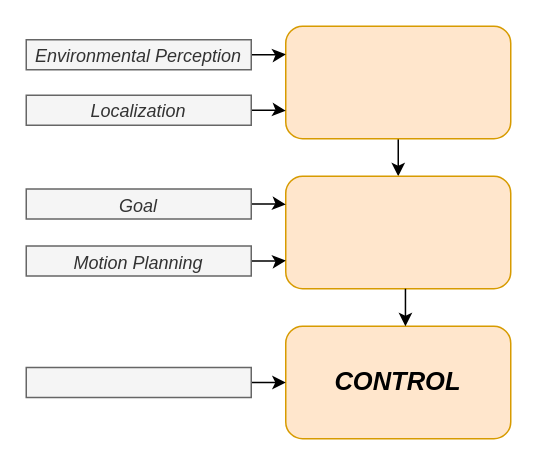
Image size: 537x465. Some labels were removed from this diagram. The shapes that lost their labels are listed below. From the top down, each one's centre as x and y in pixels, then its label:
At (x=397, y=82): "PERCEPTION".
At (x=397, y=232): "PLANNING".
At (x=138, y=382): "Path Following".
